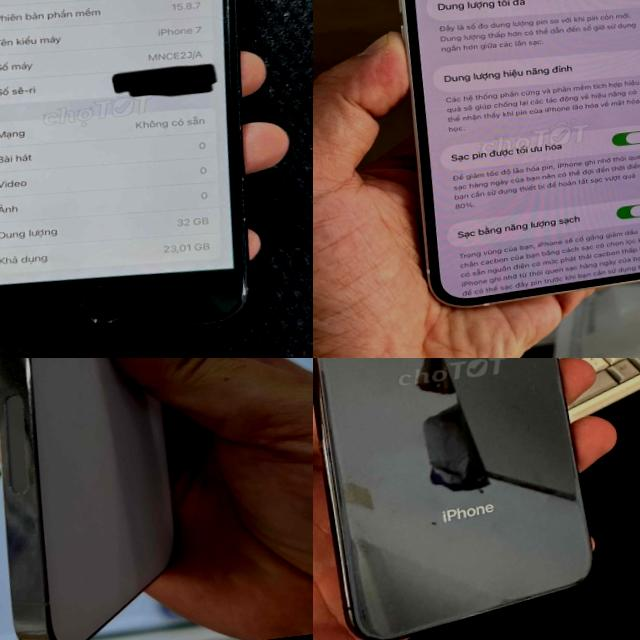gen_12_13: (368, 0, 640, 325)
gen_14: (0, 358, 210, 640)
gen_7_8: (0, 0, 288, 357)
gen_x_xs: (313, 358, 613, 640)
